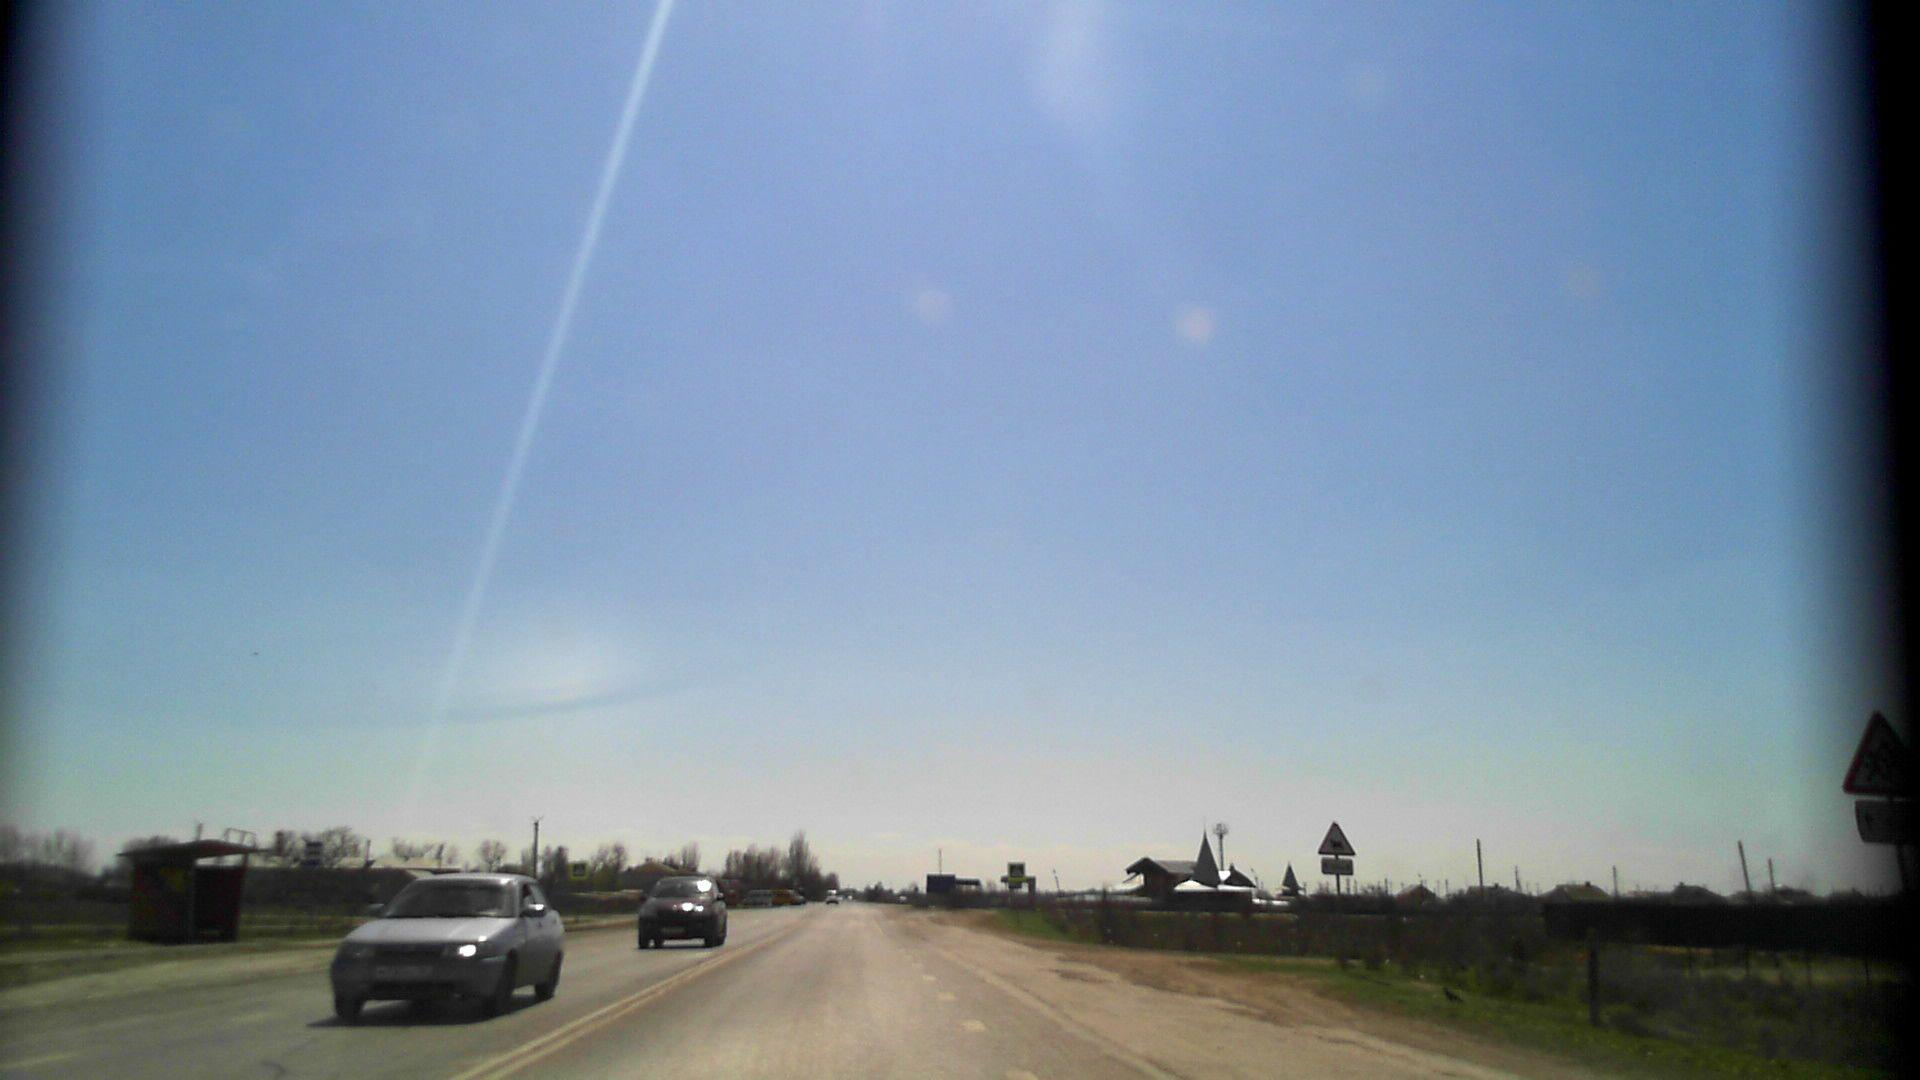1_23: (1842, 708, 1920, 795)
1_26: (1316, 809, 1357, 855)
5_16: (303, 841, 325, 867)
5_19_1: (1009, 863, 1025, 880)
5_19_2: (572, 862, 588, 877)
8_2_1: (1852, 801, 1920, 848), (1318, 857, 1356, 877)
